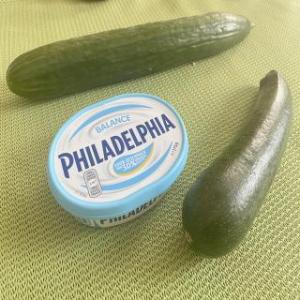cucumber: (6, 6, 260, 104)
zucchini: (177, 66, 295, 268)
